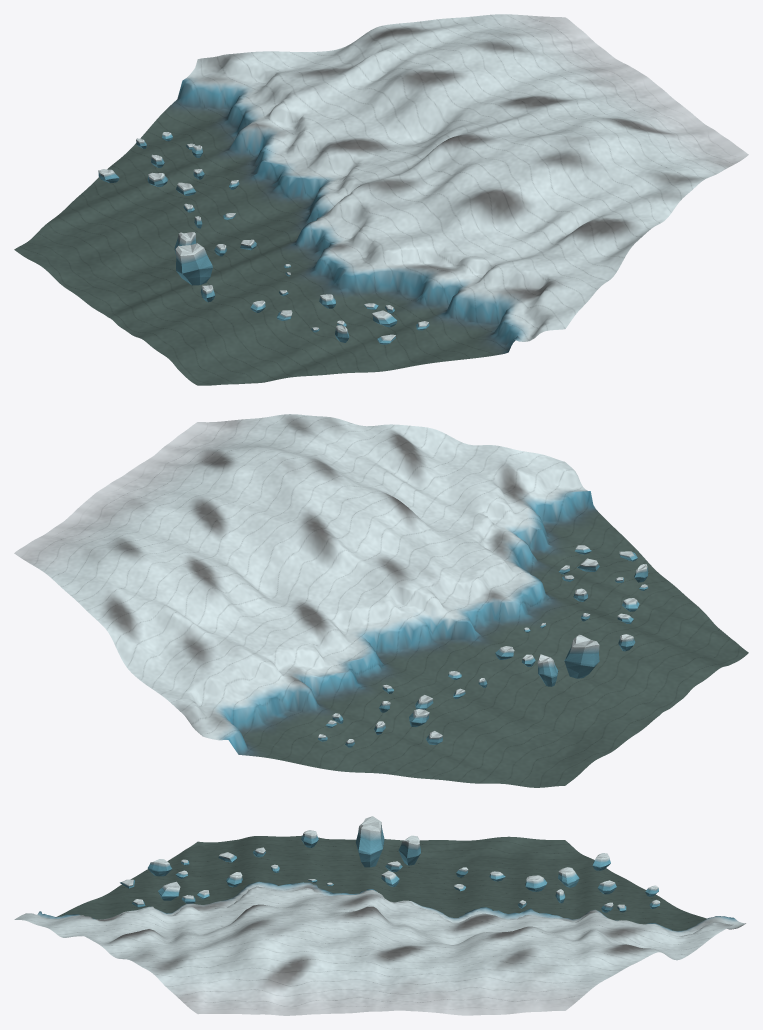
File: glacial-v01.glb
3 views of the same model, one above another, from view 1: azimuth 30°, elevation 25°; view 2: azimuth 150°, elevation 25°; view 3: azimuth 270°, elevation 25° (orthographic).
Visible parts, largest first — view 1: terrain, Gelo à deriva; view 2: terrain, Gelo à deriva; view 3: terrain, Gelo à deriva.
Part boxes in pixels (<box>): terrain: <box>14,14,748,385</box>; Gelo à deriva: <box>98,132,429,344</box>; terrain: <box>14,414,748,787</box>; Gelo à deriva: <box>318,545,648,747</box>; terrain: <box>14,835,745,1015</box>; Gelo à deriva: <box>120,816,660,912</box>.
Size of the model in its own units: 4330 by 876 by 5000.
2 materials, 2 textured.
